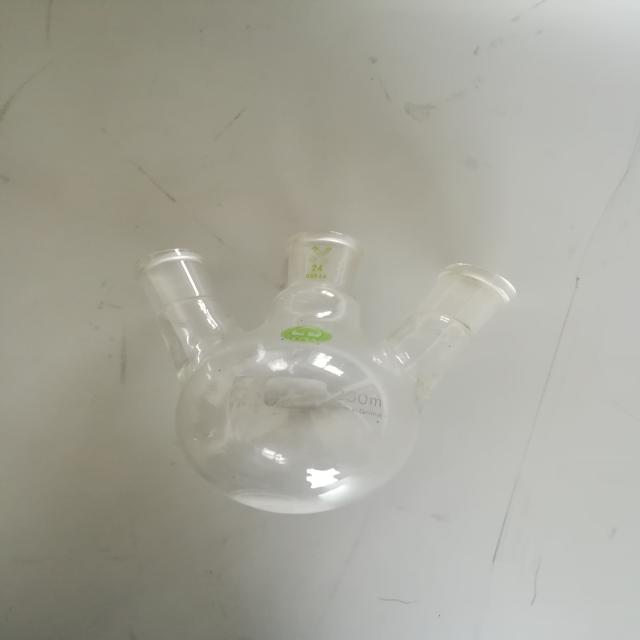Round_Bottom_Flask_Borosilicate_Glass_3_Neck: (99, 192, 542, 564)
